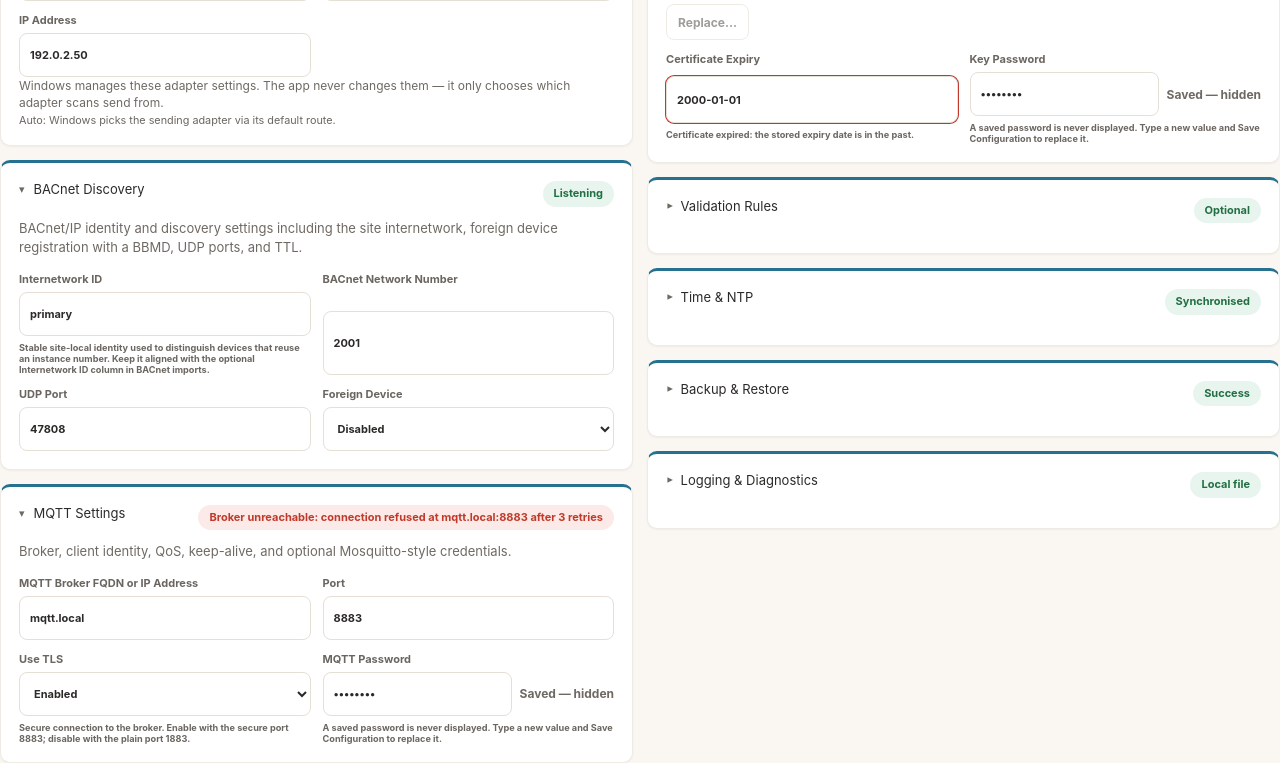
it: ConfigurationPage › gates Upload logs now behind the engineer role
This screenshot has width=1280, height=763.
(page scrolled)
What coordinates should you click on to do the following:
click the button "▾ Logging & Diagnostics Local file"
I would click on:
 (749, 480)
Its box is top-left (666, 472), bottom-right (1261, 498).
(page scrolled)
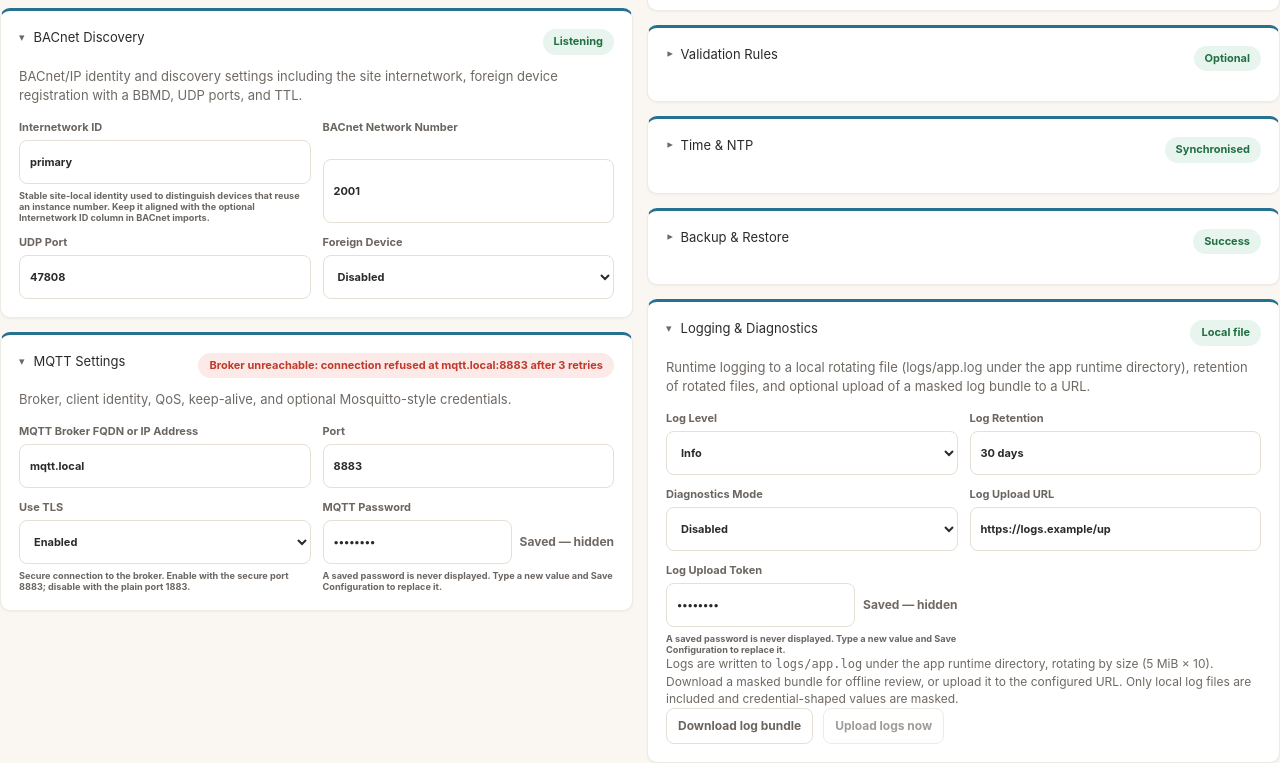
expect the button "Upload logs now" is disabled: met, box top-left (823, 708), bottom-right (944, 744)
